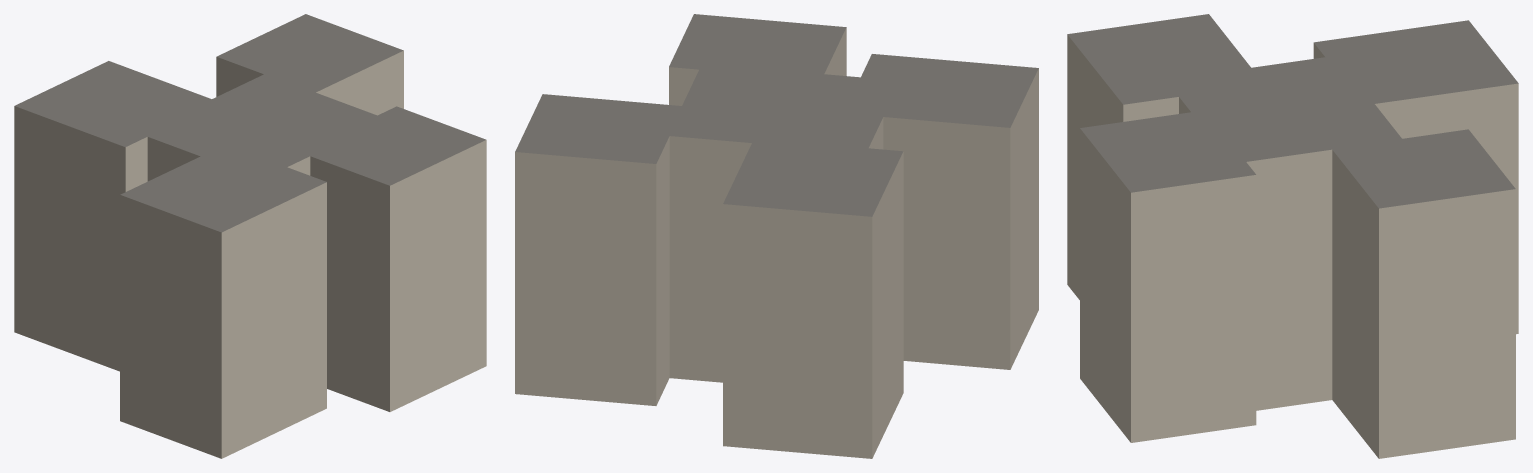
The picture shows the model from 3 angles, left to right: view 1: azimuth 30°, elevation 25°; view 2: azimuth 150°, elevation 25°; view 3: azimuth 270°, elevation 25°; orthographic projection. The views are drawn at different scales.
Parts seen in each view (by area): view 1: HP-w1435252847; view 2: HP-w1435252847; view 3: HP-w1435252847.
Boxes of the visible parts, x1=… form: HP-w1435252847: x1=14, y1=14, x2=486, y2=458; HP-w1435252847: x1=515, y1=14, x2=1038, y2=458; HP-w1435252847: x1=1067, y1=14, x2=1518, y2=458.
Bounding box in the file's own units: 30.01 × 18 × 29.43.
